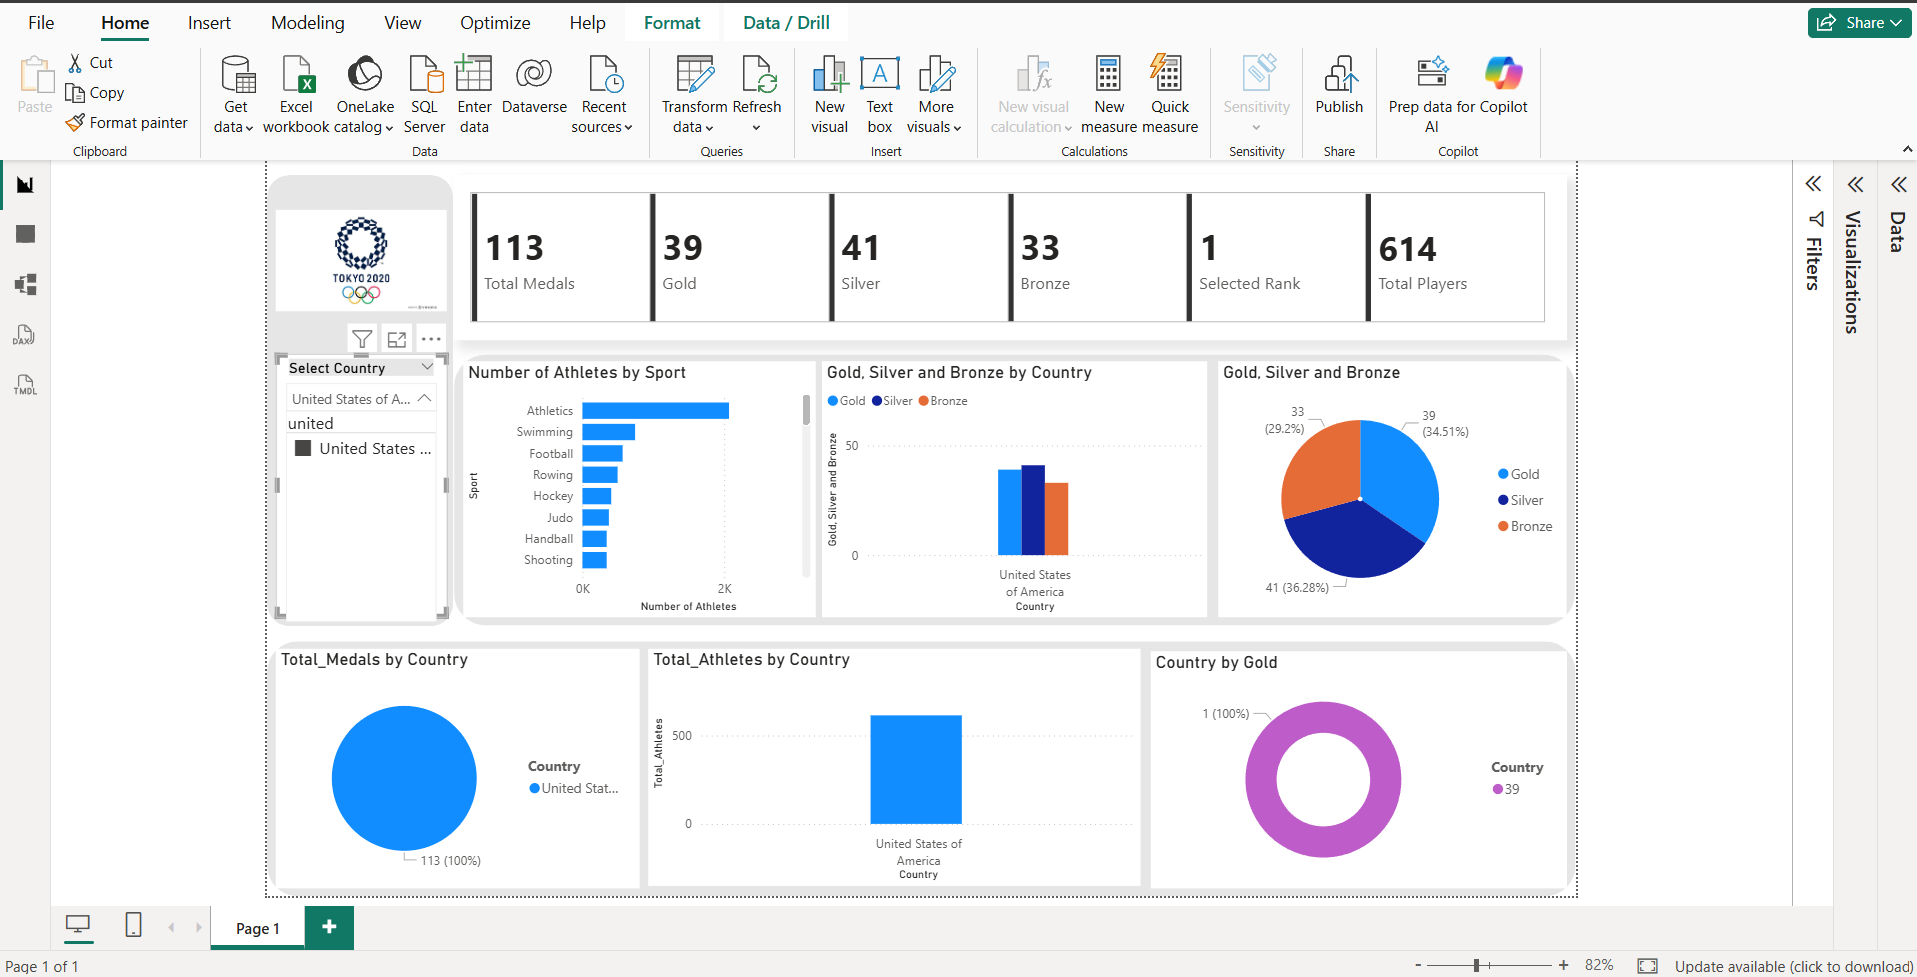

What the dashboard file says about the page in this screenshot:
{"tool":"powerbi","page":{"name":"Page 1","canvas":[1280,720],"ordinal":0},"visuals":[{"type":"shape","box":[0,470.8,1280.3,249.5],"z":0},{"type":"shape","box":[182.2,189.5,1098.1,266.6],"z":1000},{"type":"cardVisual","fields":{"Data":["Sum(country.Total)","Sum(country.Gold)","Sum(country.Silver)","Sum(country.Bronze)","country.Country_Rank","Sum(country.Total_Players)"]},"box":[182.2,14.7,1089.5,161.4],"z":2000},{"type":"barChart","fields":{"Category":["sport.Sport"],"Y":["Sum(sport.Number_of_Players)"]},"box":[192,196.9,344.8,250.7],"z":3000},{"type":"clusteredColumnChart","fields":{"Category":["country.Country"],"Y":["Sum(country.Gold)","Sum(country.Silver)","Sum(country.Bronze)"]},"box":[542.9,196.9,376.6,250.7],"z":4000},{"type":"pieChart","fields":{"Category":["country.Country"],"Y":["Sum(country.Total_Medals)"]},"box":[8.6,478.1,355.8,234.8],"z":5000},{"type":"donutChart","fields":{"Category":["country.Gold"],"Y":["CountNonNull(country.Country)"]},"box":[864.5,480.6,407.2,232.3],"z":6000},{"type":"lineStackedColumnComboChart","fields":{"Category":["country.Country"],"Y":["Sum(country.Total_Athletes)"]},"box":[373,478.1,481.8,232.3],"z":7000},{"type":"pieChart","fields":{"Y":["Sum(country.Gold)","Sum(country.Silver)","Sum(country.Bronze)"]},"box":[930.6,196.9,341.2,250.7],"z":8000},{"type":"shape","box":[0,14.7,182.2,441.4],"z":9000},{"type":"image","box":[8.6,0,167.5,196.9],"z":10000},{"type":"slicer","fields":{"Values":["country.Country"]},"box":[8.6,189.5,167.5,258],"z":11000}]}

Visuals, with their boxes on the page's 1280x720 design canvas (x1, y1, x2, y2). These are canvas units, not pixel positions in the 1917x977 screenshot, which may show the page scaled, cropped or inside an application window:
shape: bbox(0, 471, 1280, 720)
shape: bbox(182, 190, 1280, 456)
cardVisual - Sum(country.Total) x Sum(country.Gold): bbox(182, 15, 1272, 176)
barChart - sport.Sport x Sum(sport.Number_of_Players): bbox(192, 197, 537, 448)
clusteredColumnChart - country.Country x Sum(country.Gold): bbox(543, 197, 920, 448)
pieChart - country.Country x Sum(country.Total_Medals): bbox(9, 478, 364, 713)
donutChart - country.Gold x CountNonNull(country.Country): bbox(864, 481, 1272, 713)
lineStackedColumnComboChart - country.Country x Sum(country.Total_Athletes): bbox(373, 478, 855, 710)
pieChart - Sum(country.Gold) x Sum(country.Silver): bbox(931, 197, 1272, 448)
shape: bbox(0, 15, 182, 456)
image: bbox(9, 0, 176, 197)
slicer - country.Country: bbox(9, 190, 176, 448)
